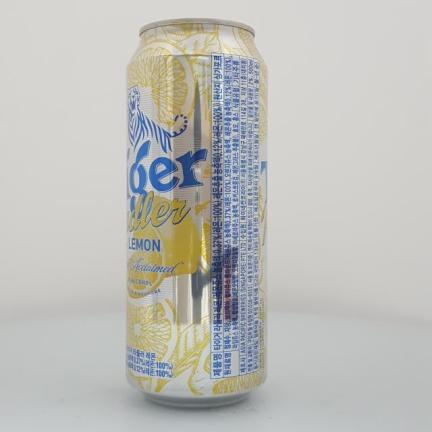can: (126, 19, 267, 406)
